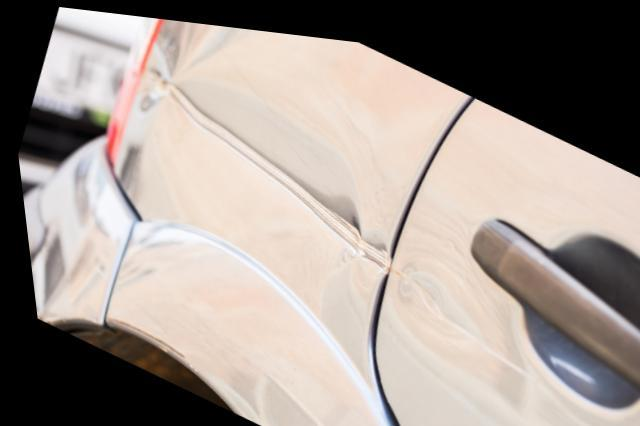dent: (159, 76, 380, 305), (394, 258, 473, 337)
